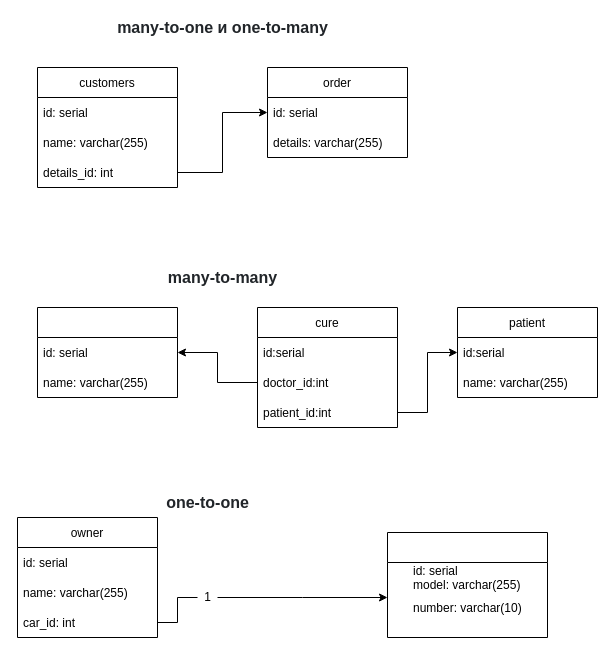
Some shapes in this 615 by 655 pixel diagram are drawn without their labels. The box of each missing label's shape, as (x1, y1, x2, y2) in pixels:
car: (386, 532, 548, 638)
doctor: (36, 306, 178, 398)
